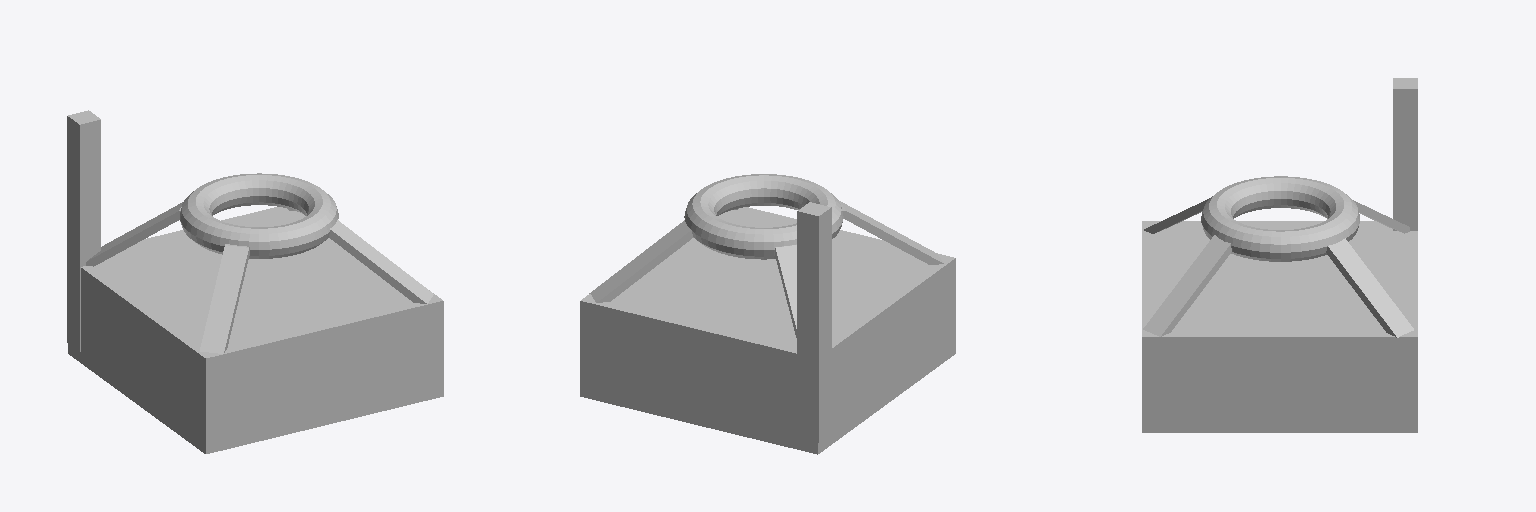
Rendered from enariasAltar2.obj.
3 renders of one model, left to right at view 1: azimuth 30°, elevation 25°; view 2: azimuth 150°, elevation 25°; view 3: azimuth 270°, elevation 25°, orthographic.
Parts seen in each view (by area): view 1: 5, Torus, 3, 25.003_25.006, 25, 25.002_25.005; view 2: 5, Torus, 3, 25.001_25.004, 25.003_25.006, 25.002_25.005; view 3: 5, Torus, 3, 25, 25.001_25.004, 25.003_25.006.
Boxes of the visible parts, x1=… form: 5: x1=68, y1=207, x2=443, y2=453; Torus: x1=180, y1=173, x2=338, y2=258; 3: x1=67, y1=110, x2=100, y2=351; 25.003_25.006: x1=200, y1=244, x2=249, y2=353; 25: x1=329, y1=220, x2=433, y2=303; 25.002_25.005: x1=86, y1=202, x2=182, y2=266; 5: x1=580, y1=207, x2=955, y2=454; Torus: x1=684, y1=174, x2=843, y2=259; 3: x1=797, y1=202, x2=831, y2=442; 25.001_25.004: x1=589, y1=220, x2=693, y2=302; 25.003_25.006: x1=839, y1=201, x2=943, y2=264; 25.002_25.005: x1=775, y1=244, x2=796, y2=337; 5: x1=1142, y1=221, x2=1417, y2=432; Torus: x1=1201, y1=176, x2=1359, y2=261; 3: x1=1393, y1=78, x2=1417, y2=230; 25: x1=1143, y1=235, x2=1231, y2=336; 25.001_25.004: x1=1326, y1=238, x2=1413, y2=337; 25.003_25.006: x1=1144, y1=198, x2=1209, y2=233.
Bounding box in the file's own units: 1.11 × 1.05 × 1.1.